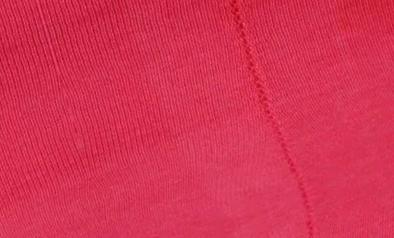slub: (229, 0, 320, 238)
